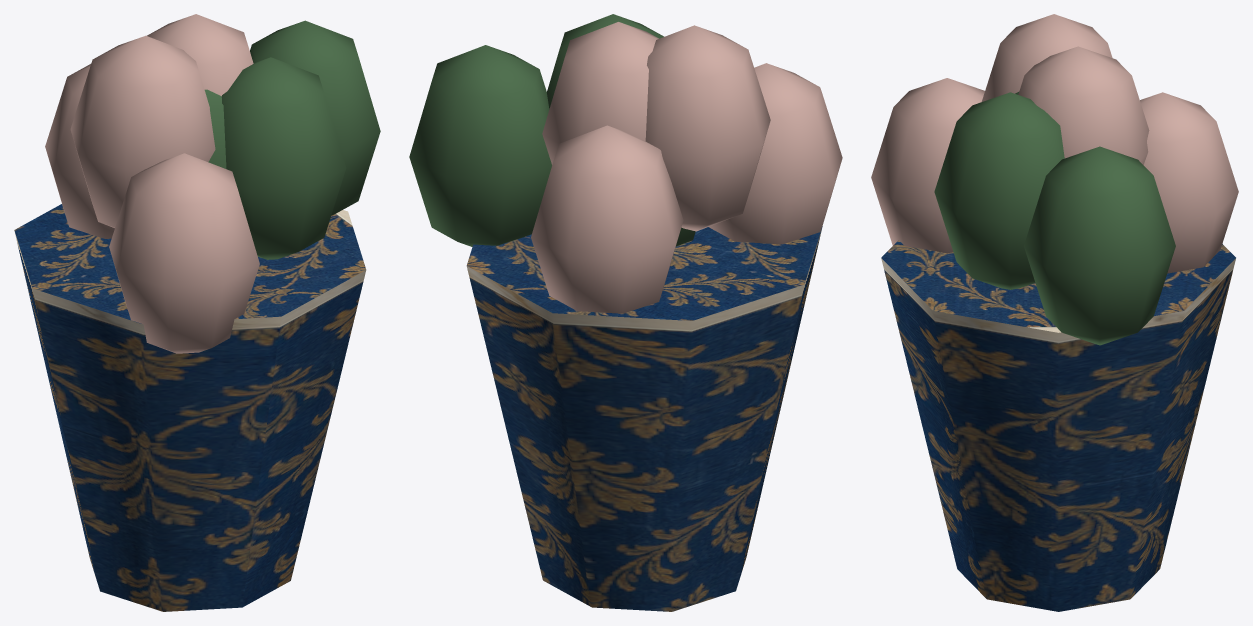
The model's file is vase-flowers.gltf.
3 renders of one model, left to right at view 1: azimuth 30°, elevation 25°; view 2: azimuth 150°, elevation 25°; view 3: azimuth 270°, elevation 25°, orthographic. The views are drawn at different scales.
Visible parts, largest first — view 1: kit:0:furniture:marble:, kit:0:furniture:flower:, kit:0:furniture:foliage:; view 2: kit:0:furniture:marble:, kit:0:furniture:flower:, kit:0:furniture:foliage:; view 3: kit:0:furniture:marble:, kit:0:furniture:foliage:, kit:0:furniture:flower:.
Boxes of the visible parts, box(x1,y1,x2,y2) form: kit:0:furniture:marble:: box(14, 204, 366, 611); kit:0:furniture:flower:: box(45, 14, 259, 353); kit:0:furniture:foliage:: box(204, 20, 380, 259); kit:0:furniture:marble:: box(466, 225, 822, 611); kit:0:furniture:flower:: box(531, 22, 842, 313); kit:0:furniture:foliage:: box(409, 14, 695, 246); kit:0:furniture:marble:: box(881, 240, 1235, 611); kit:0:furniture:foliage:: box(934, 92, 1175, 345); kit:0:furniture:flower:: box(871, 14, 1238, 273).
Bounding box in the file's own units: 0.3848 × 0.5564 × 0.348.
3 materials, 1 textured.
